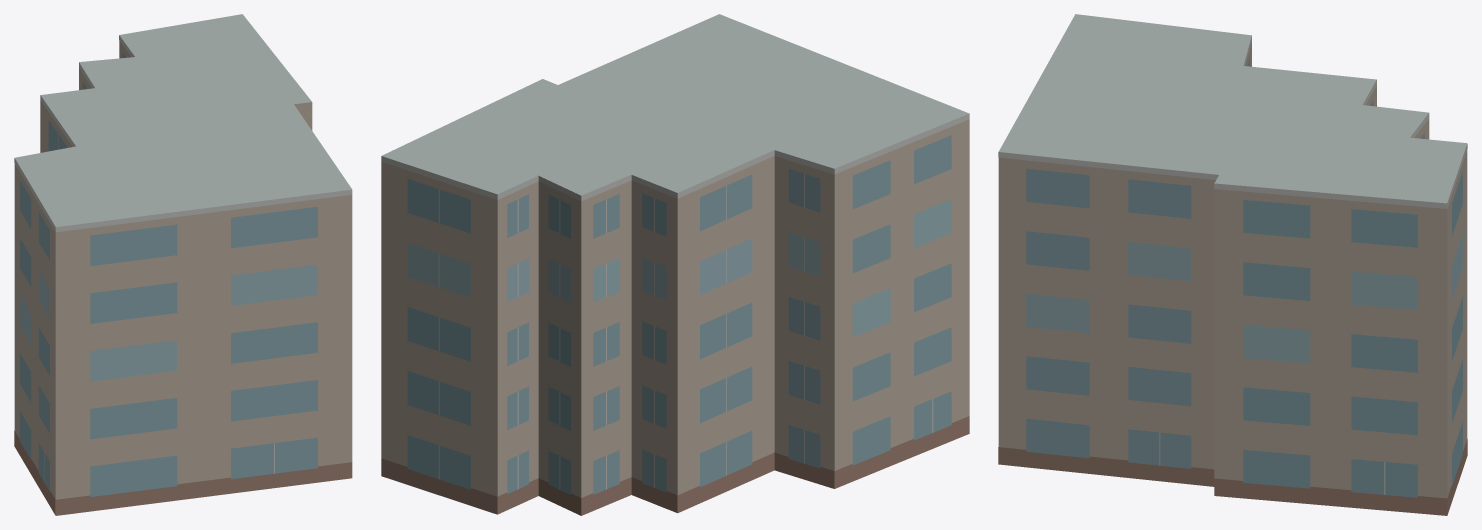
Rendered from survey-upis-32641795.glb.
3 views of the same model, side by side, from view 1: azimuth 30°, elevation 25°; view 2: azimuth 150°, elevation 25°; view 3: azimuth 270°, elevation 25° (orthographic). The views are drawn at different scales.
Parts seen in each view (by area): view 1: survey-upis-32641795.tmp; view 2: survey-upis-32641795.tmp; view 3: survey-upis-32641795.tmp.
Boxes of the visible parts, <box> form: survey-upis-32641795.tmp: <box>14,14,352,515</box>; survey-upis-32641795.tmp: <box>381,14,969,515</box>; survey-upis-32641795.tmp: <box>998,14,1467,515</box>.
Size of the model in its own units: 17.82 by 13.7 by 18.65.
